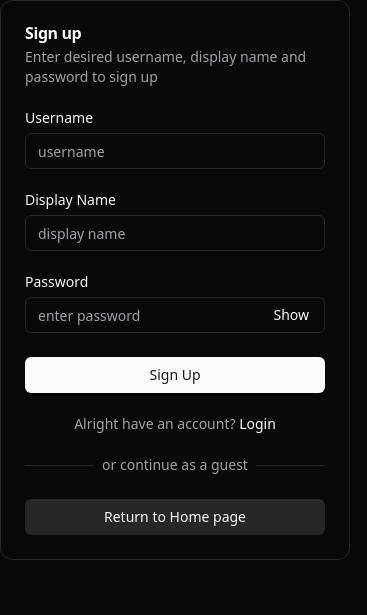
Test: displays error message if API returns no error message
// Simulate user input
Type "testuser" into the field labelled "Username" at x=175, y=151, box [25,133,325,169]
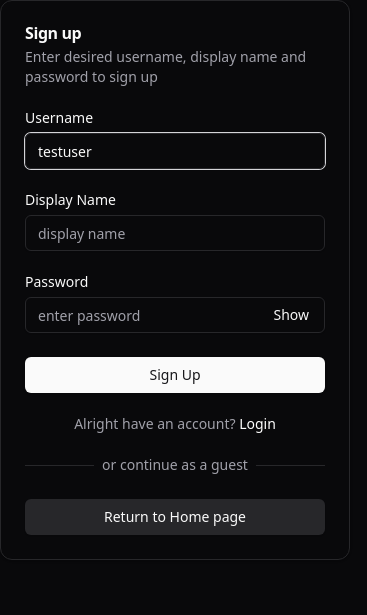
Type "Test User" into the field labelled "Display Name" at x=175, y=233, box [25,215,325,251]
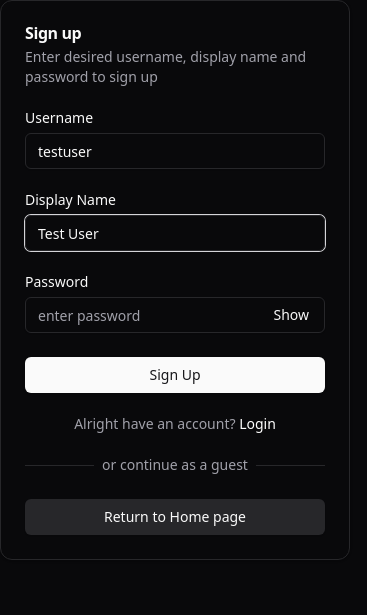
Type "password123" into the password field labelled "Password" at x=175, y=315, box [25,297,325,333]
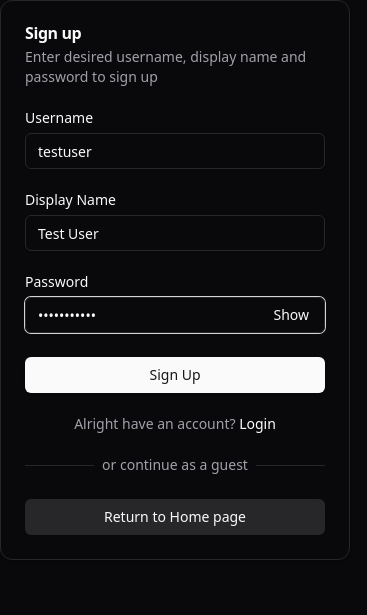
// Submit the form
Click the button "Sign Up" at x=175, y=375, box [25,357,325,393]
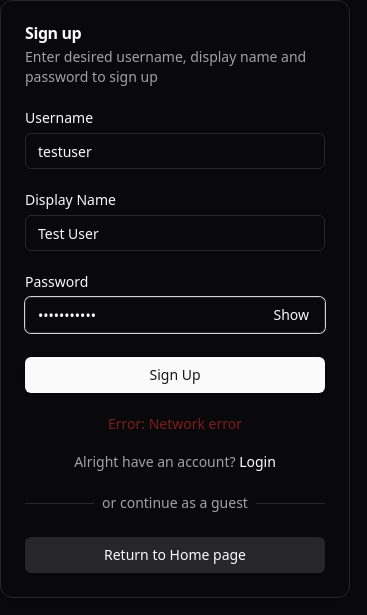
Expected: the text "Error: Network error" is shown, [108,414,242,433]
